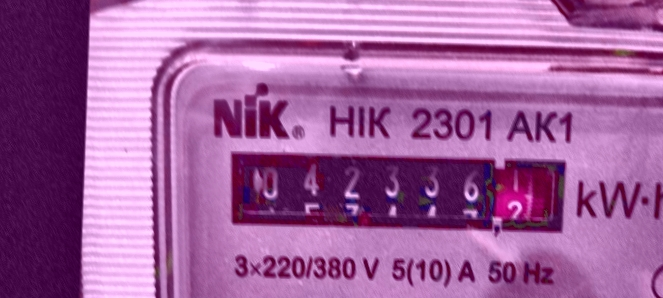0: (257, 164, 278, 200)
1: (506, 164, 520, 194)
2: (338, 163, 360, 200), (502, 198, 521, 220)
3: (417, 162, 439, 199), (379, 161, 400, 199)
4: (298, 159, 319, 196)
6: (456, 166, 480, 202)
screen: (218, 138, 573, 243)
